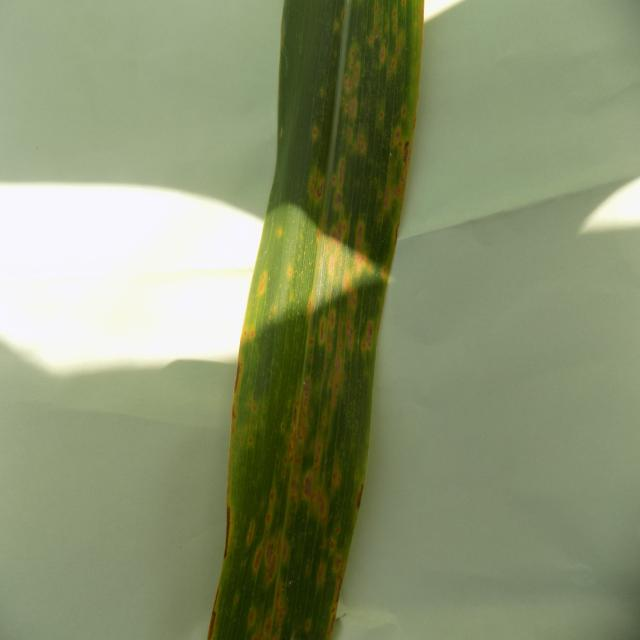millet_rust: (209, 2, 422, 639)
